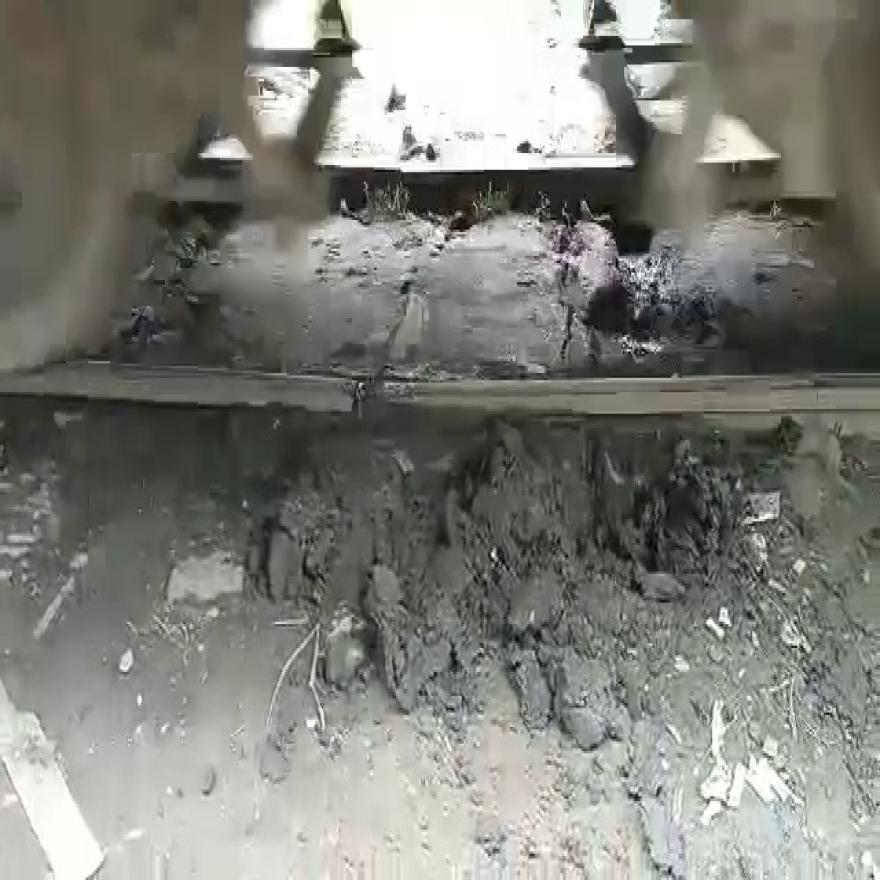railway-gap: (310, 313, 403, 465)
